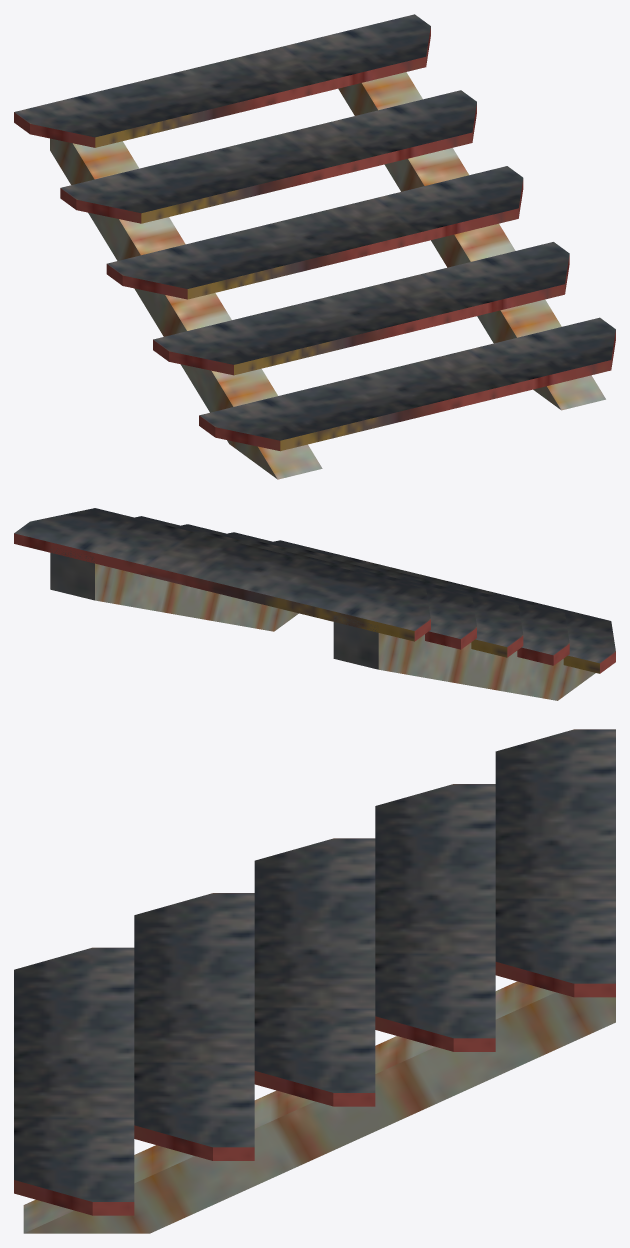
File: SM_METAL_STAIRS_01.fbx
3 views of the same model, one above another, from view 1: azimuth 30°, elevation 25°; view 2: azimuth 150°, elevation 25°; view 3: azimuth 270°, elevation 25° (orthographic). The views are drawn at different scales.
Parts seen in each view (by area): view 1: SM_METAL STAIRS_01; view 2: SM_METAL STAIRS_01; view 3: SM_METAL STAIRS_01.
Boxes of the visible parts, box(x1,y1,x2,y2) form: SM_METAL STAIRS_01: box(14, 14, 615, 479); SM_METAL STAIRS_01: box(14, 508, 615, 700); SM_METAL STAIRS_01: box(14, 729, 615, 1233).
Bounding box in the file's own units: 2 × 1 × 2.
